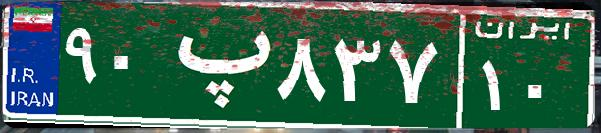0: (110, 28, 158, 105), (525, 38, 570, 115)
1: (475, 38, 525, 113)
3: (330, 28, 385, 110)
7: (385, 28, 445, 110)
8: (273, 28, 330, 110)
9: (57, 26, 110, 107)
پ: (158, 15, 273, 115)
